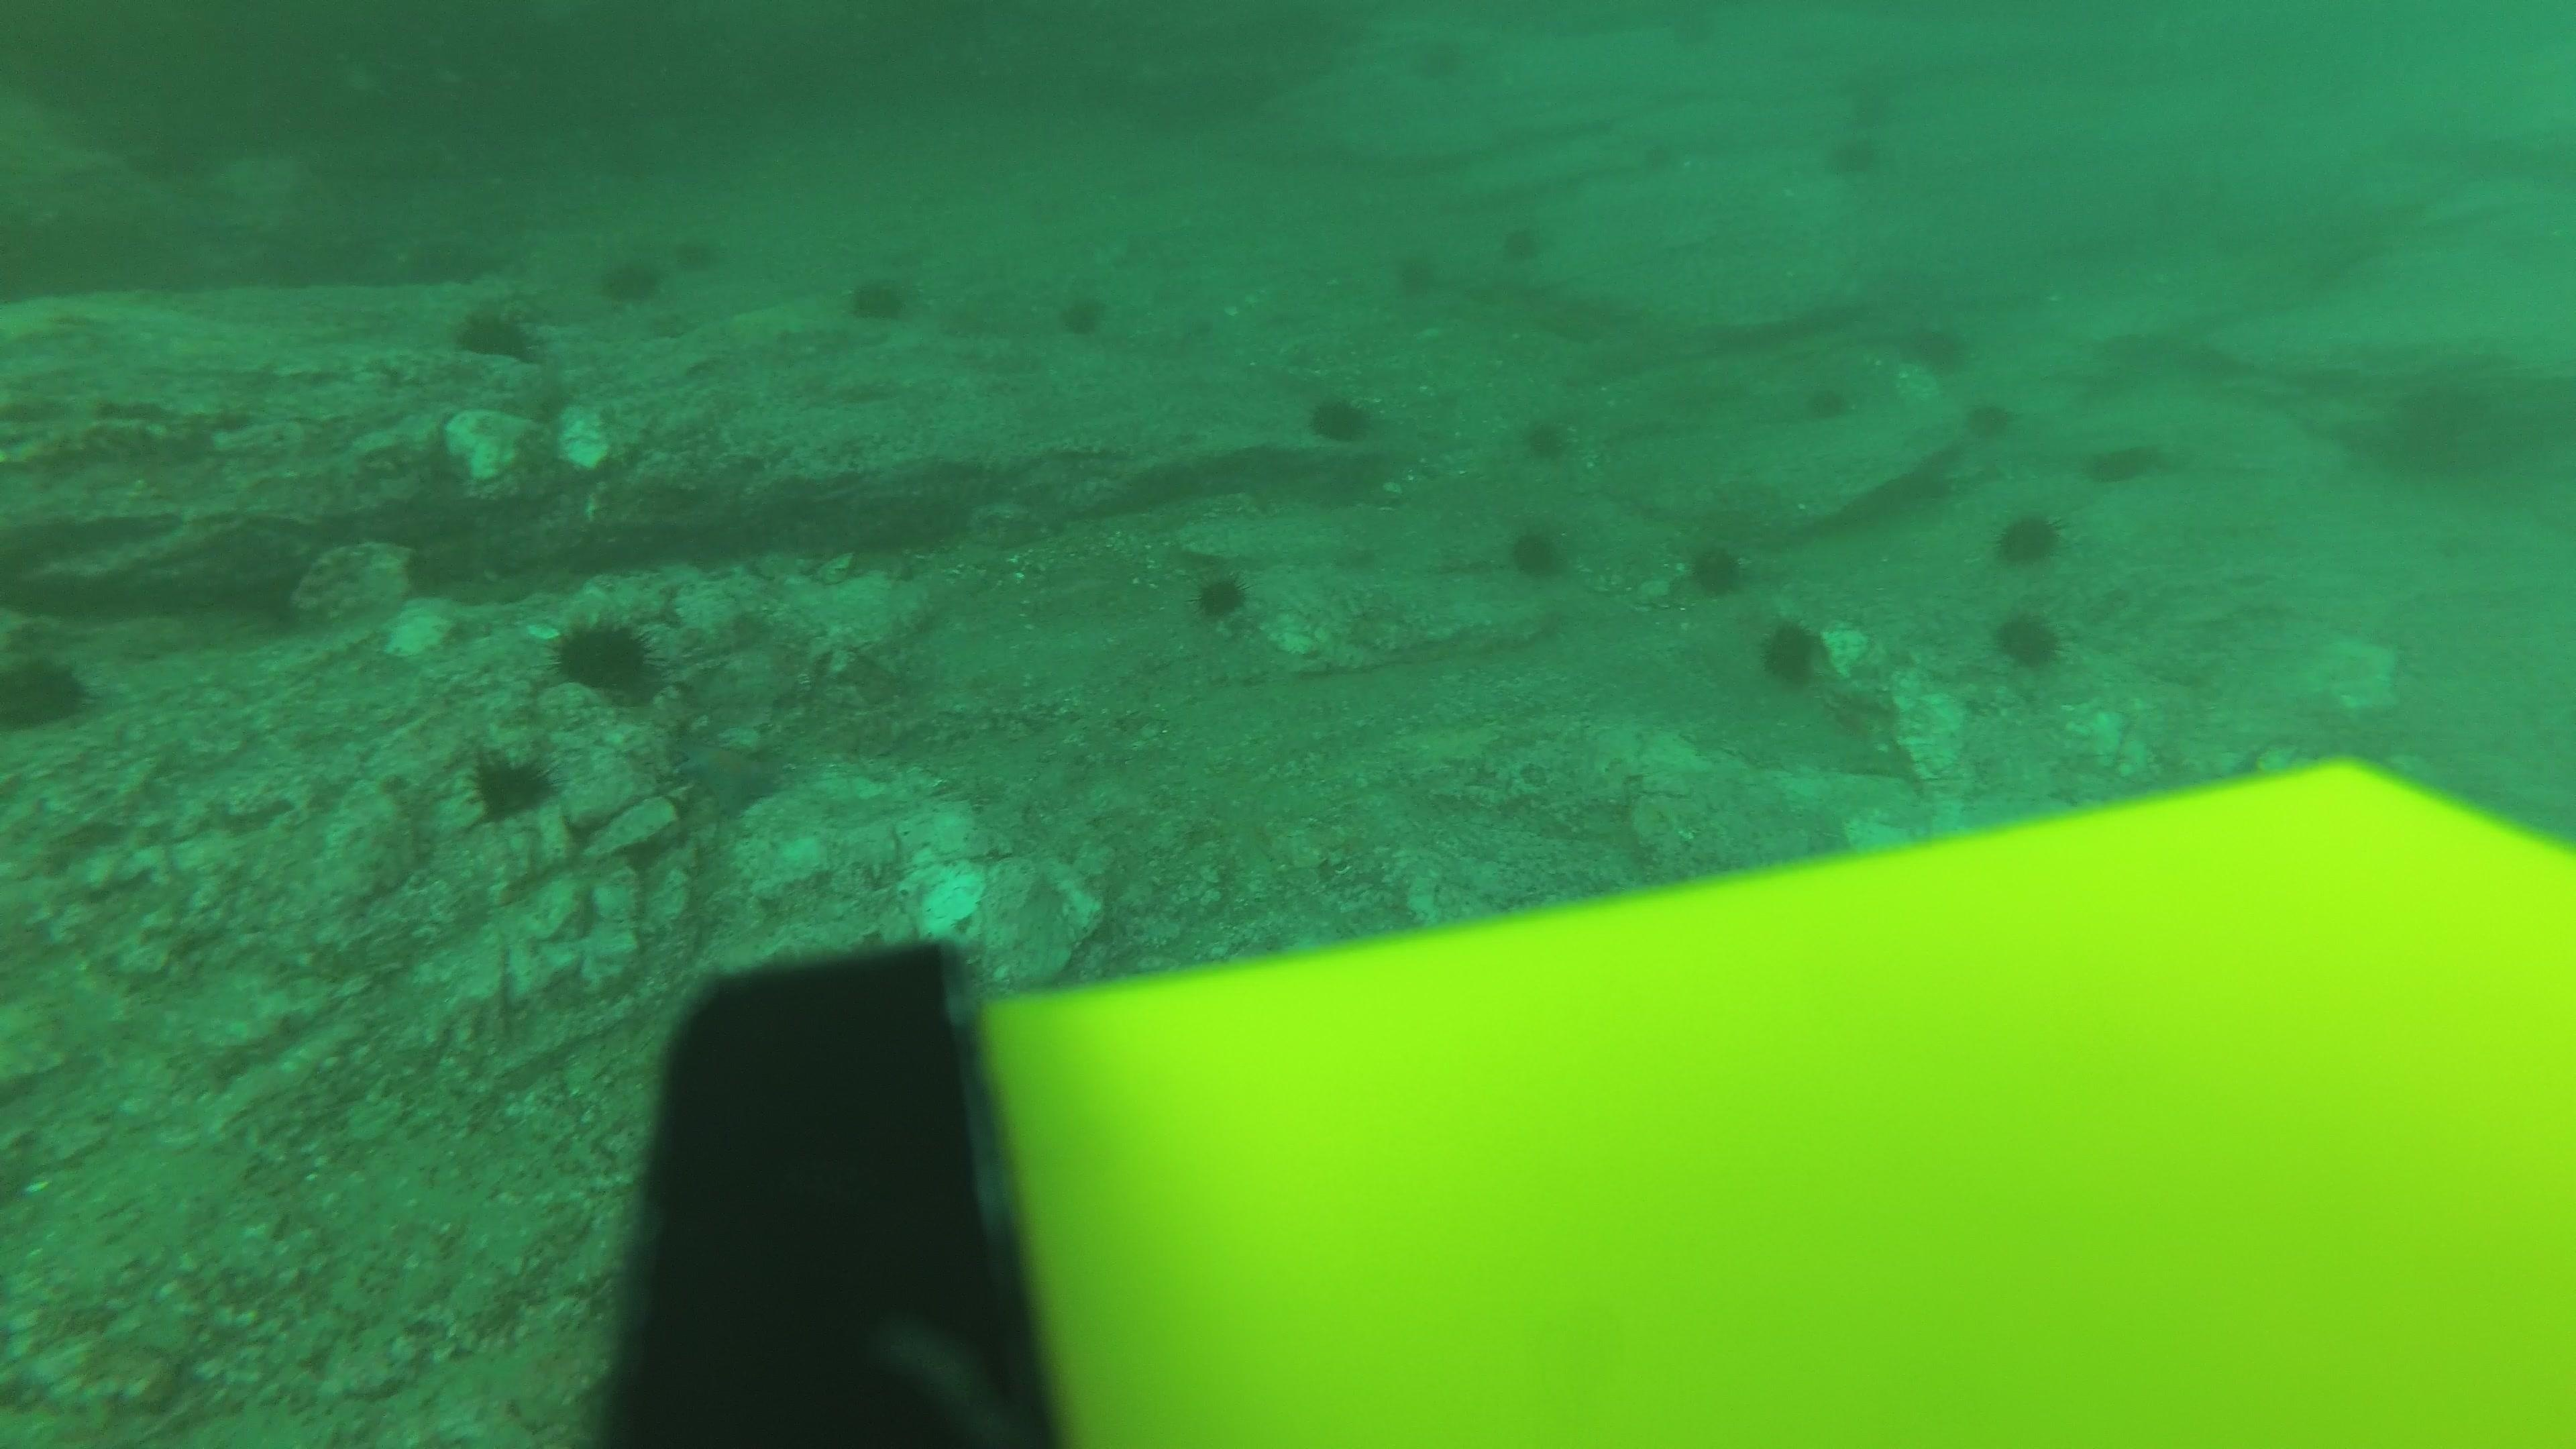echinus: (2364, 359, 2528, 490), (547, 609, 665, 702), (2, 642, 97, 736), (462, 743, 561, 828), (449, 297, 541, 364), (1755, 614, 1831, 690), (1990, 502, 2068, 571), (1990, 605, 2066, 674), (2082, 432, 2171, 490), (840, 264, 918, 327), (1819, 119, 1893, 184), (1185, 563, 1256, 628), (1902, 315, 1974, 379), (1304, 386, 1378, 448), (1504, 518, 1573, 584), (1681, 536, 1752, 600), (596, 246, 669, 308), (1516, 407, 1578, 465), (1054, 283, 1113, 341), (1798, 375, 1859, 428), (1962, 393, 2019, 444), (1398, 248, 1445, 292), (1415, 42, 1470, 80), (1497, 228, 1543, 265), (1668, 12, 1713, 50), (1644, 145, 1681, 175)
starfish: (669, 731, 789, 816)
